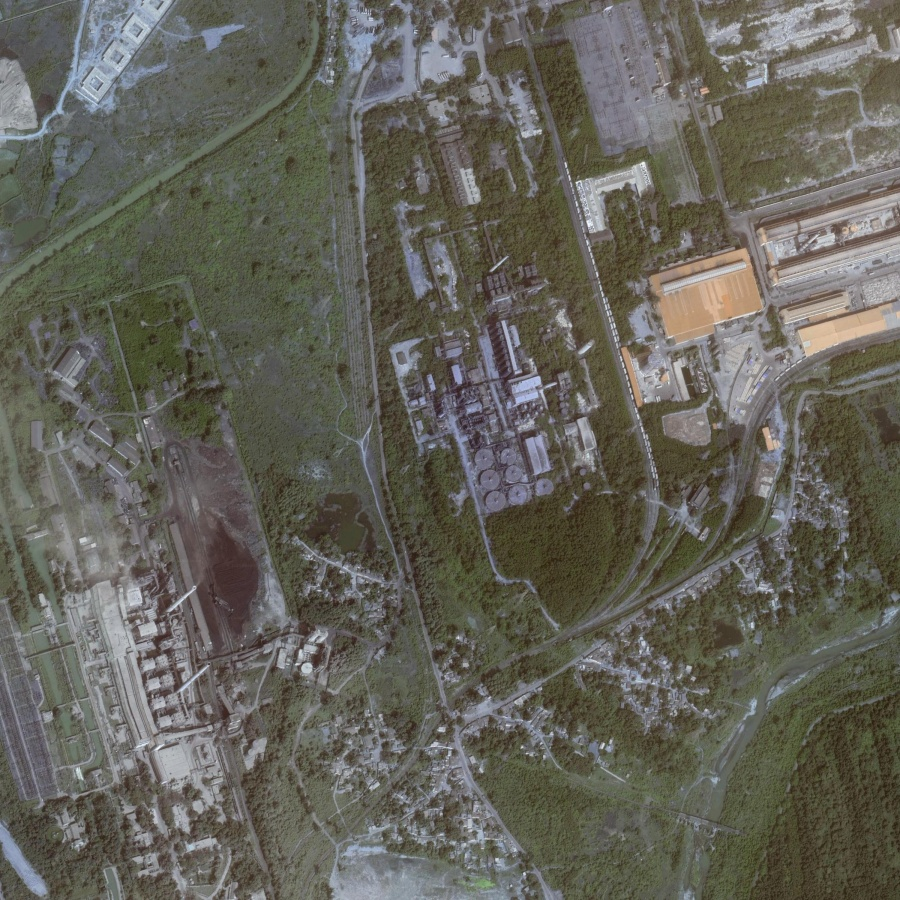PowerPlant: (72, 430, 269, 728)
